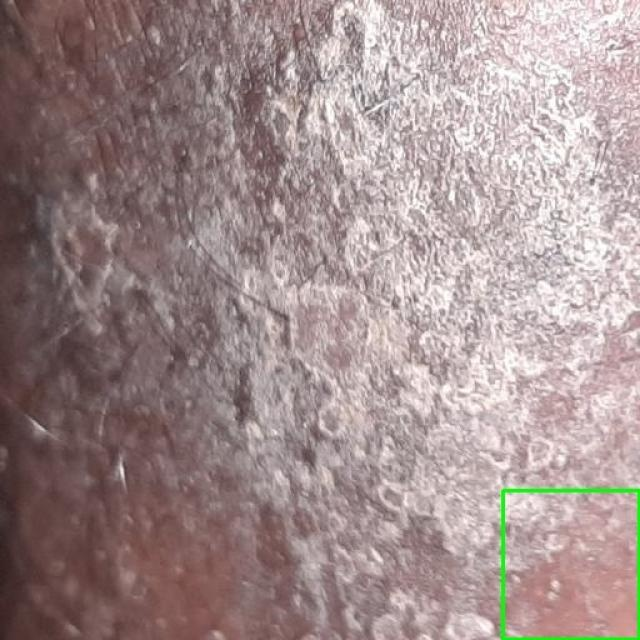Tinea Corporis: (502, 490, 639, 639)
